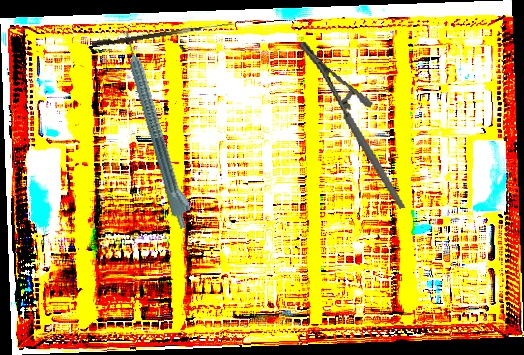Handpiece: (119, 26, 198, 231)
Hook Surgical: (91, 16, 234, 50)
Needle Holder: (296, 28, 407, 223)
